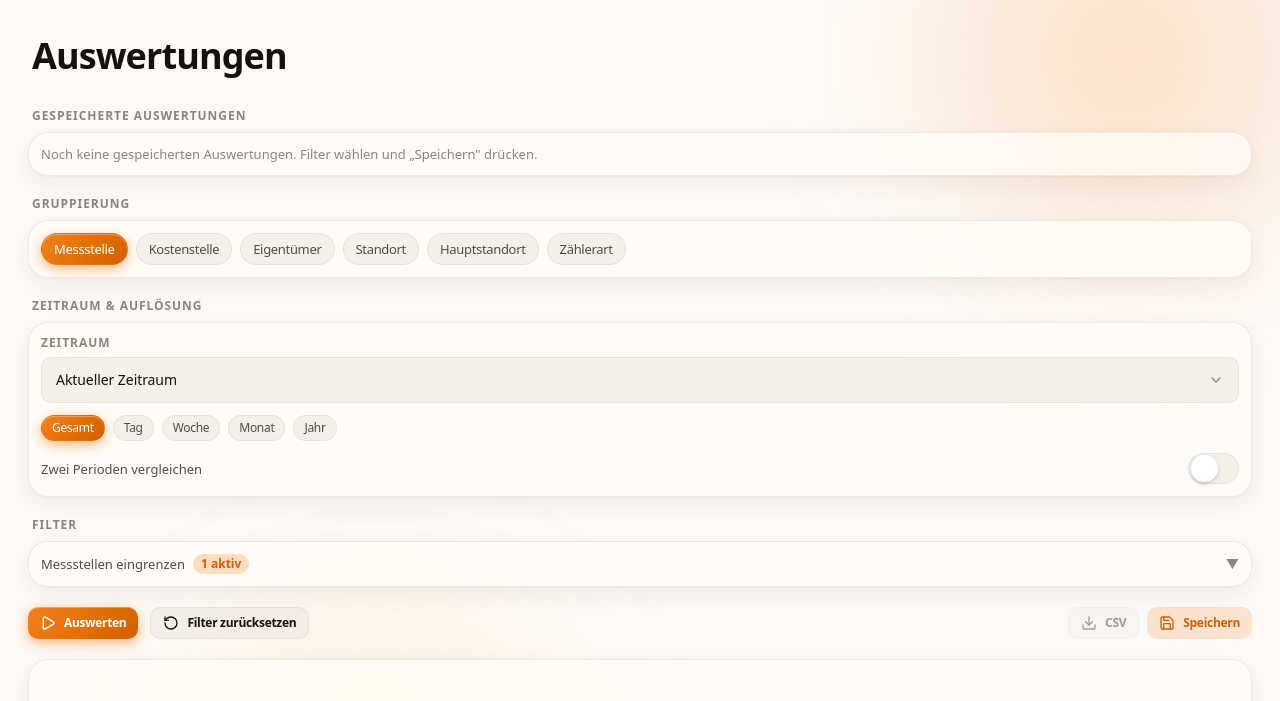
Test case: ReportsPage — Filter merken › merkt den Messstellen-Filter und „Filter zurücksetzen" leert ihn auch im Speicher
expect the text "1 aktiv" is shown: met, box x1=193 y1=554 x2=249 y2=574
What coordinates should you click on to do the following:
click the button "Auswerten"
I would click on:
 (83, 623)
Its box is x1=28 y1=607 x2=138 y2=639.
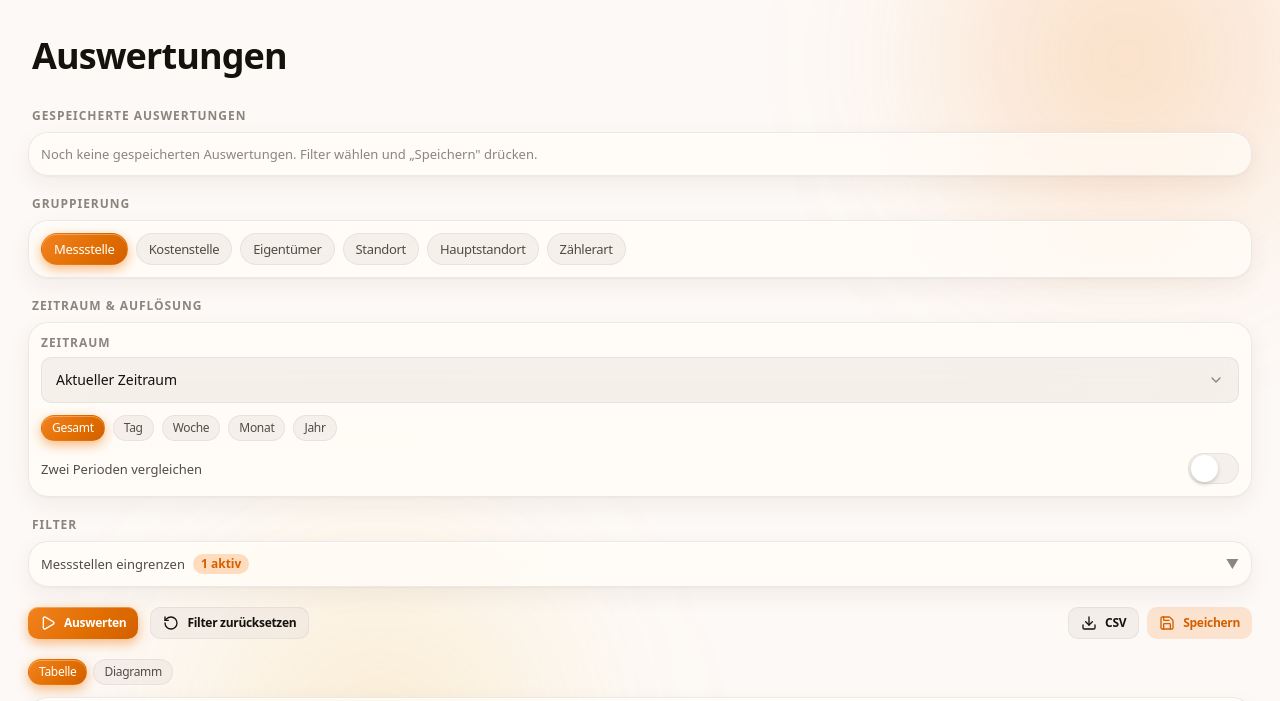
What coordinates should you click on to do the following:
click the button "Filter zurücksetzen"
I would click on:
 (230, 623)
Its box is x1=150 y1=607 x2=309 y2=639.
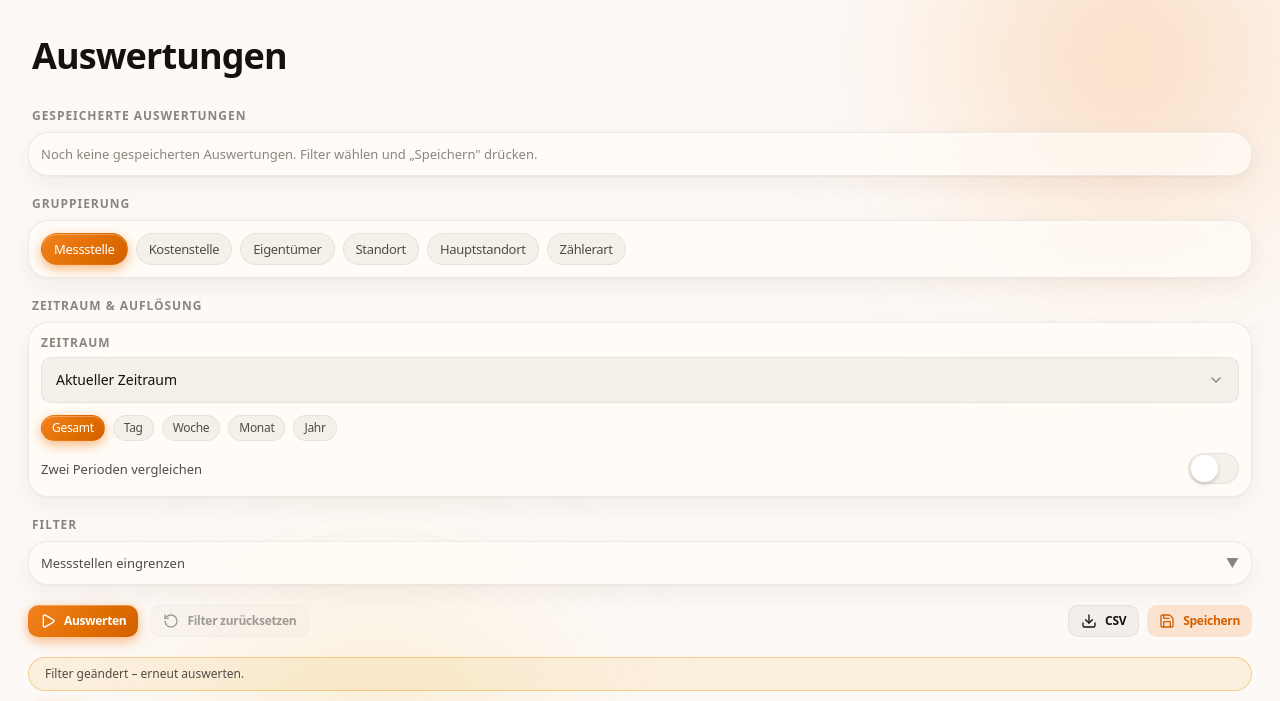
expect the text "1 aktiv" is gone: met
